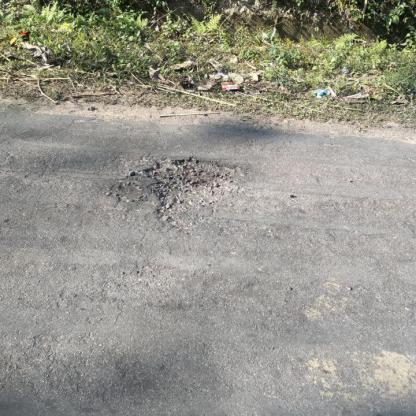pothole: (135, 156, 250, 224)
